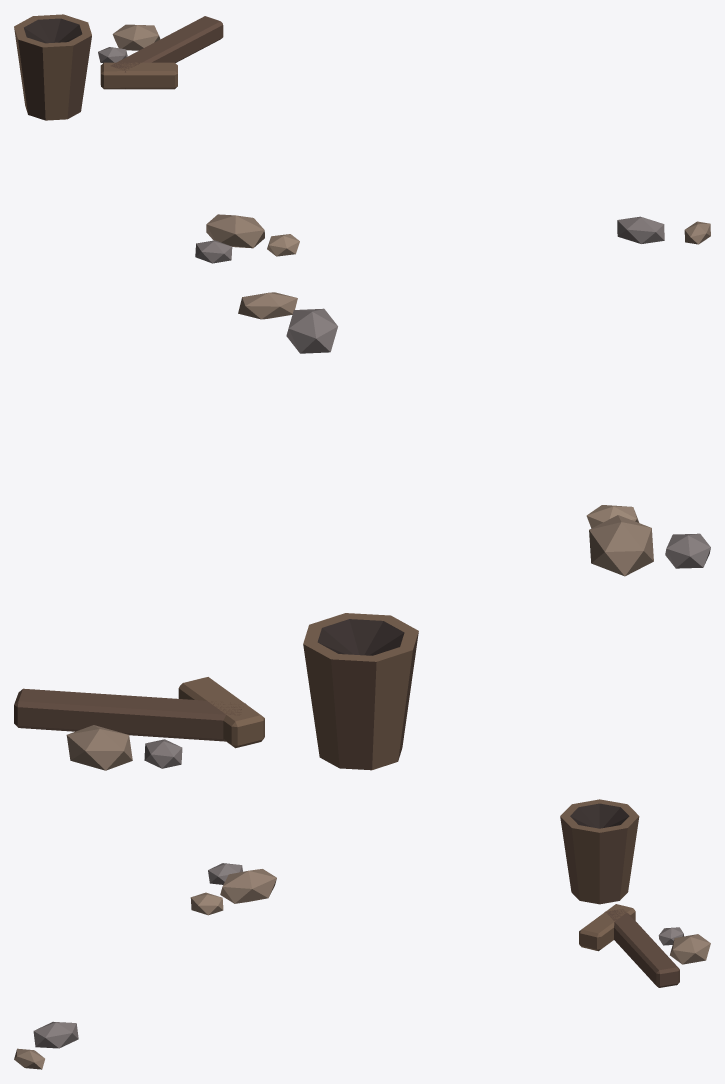
Rendered from arena_edge_details.glb.
3 views of the same model, one above another, from view 1: azimuth 30°, elevation 25°; view 2: azimuth 150°, elevation 25°; view 3: azimuth 270°, elevation 25° (orthographic). The views are drawn at different scales.
Visible parts, largest first — view 1: Well-side bucket, Dropped rail west, Splinter west, West stones A, Front stones A, Well-side stones A, West stones B, West stones C, Front stones B; view 2: Well-side bucket, Dropped rail west, West stones A, Splinter west, Well-side stones A, Front stones A, West stones B, Front stones B, Well-side stones B; view 3: Well-side bucket, Dropped rail west, West stones A, Splinter west, Front stones A, Well-side stones A, West stones C, West stones B, Front stones B.
Boxes of the visible parts, x1,y1,x2,y2 form: Well-side bucket: (14,14,91,120); Dropped rail west: (110,16,223,89); Splinter west: (100,62,177,89); West stones A: (206,214,264,248); Front stones A: (617,216,664,243); Well-side stones A: (112,24,160,50); West stones B: (195,240,232,263); West stones C: (267,234,299,256); Front stones B: (684,221,710,244); Well-side bucket: (303,613,418,770); Dropped rail west: (14,688,245,741); West stones A: (589,515,653,576); Splinter west: (178,677,264,748); Well-side stones A: (66,725,132,770); Front stones A: (286,308,337,353); West stones B: (665,533,710,568); Front stones B: (238,292,297,319); Well-side stones B: (144,739,182,768); Well-side bucket: (560,799,639,904); Dropped rail west: (606,909,679,987); West stones A: (220,869,276,903); Splinter west: (579,904,635,951); Front stones A: (33,1021,78,1048); Well-side stones A: (670,934,710,964); West stones C: (190,892,223,915); West stones B: (208,863,242,884); Front stones B: (14,1048,44,1069).
Bounding box in the file's own units: 1.24 × 0.2462 × 1.85.
